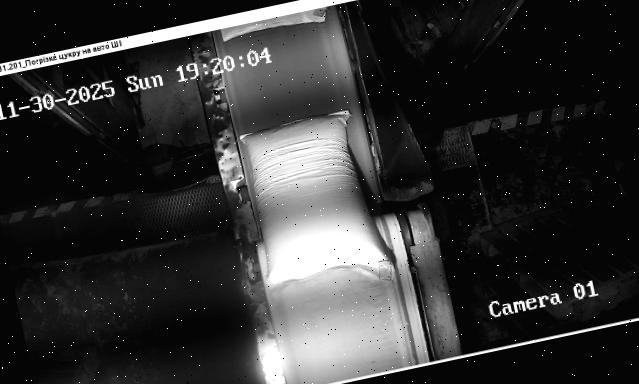bag: (236, 106, 398, 308), (222, 6, 330, 42)
